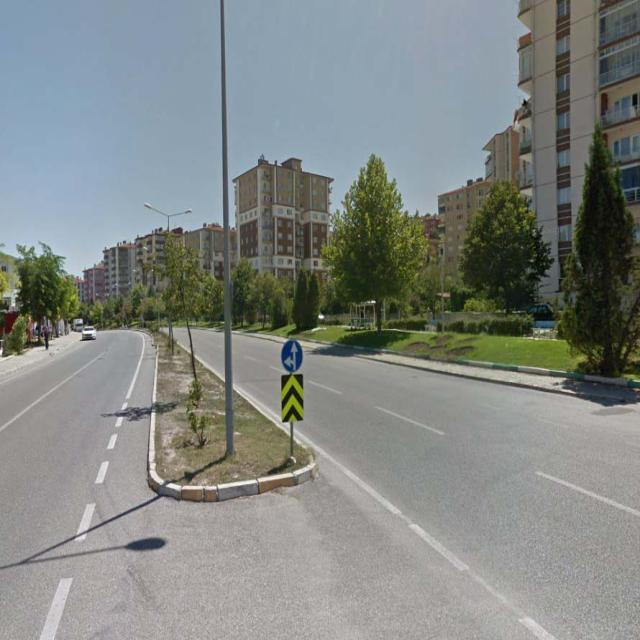ilerisol: (280, 340, 306, 373)
